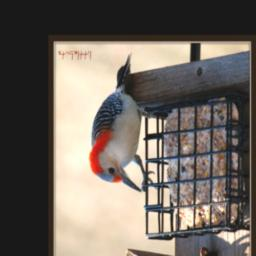Woodpecker: (89, 53, 157, 192)
